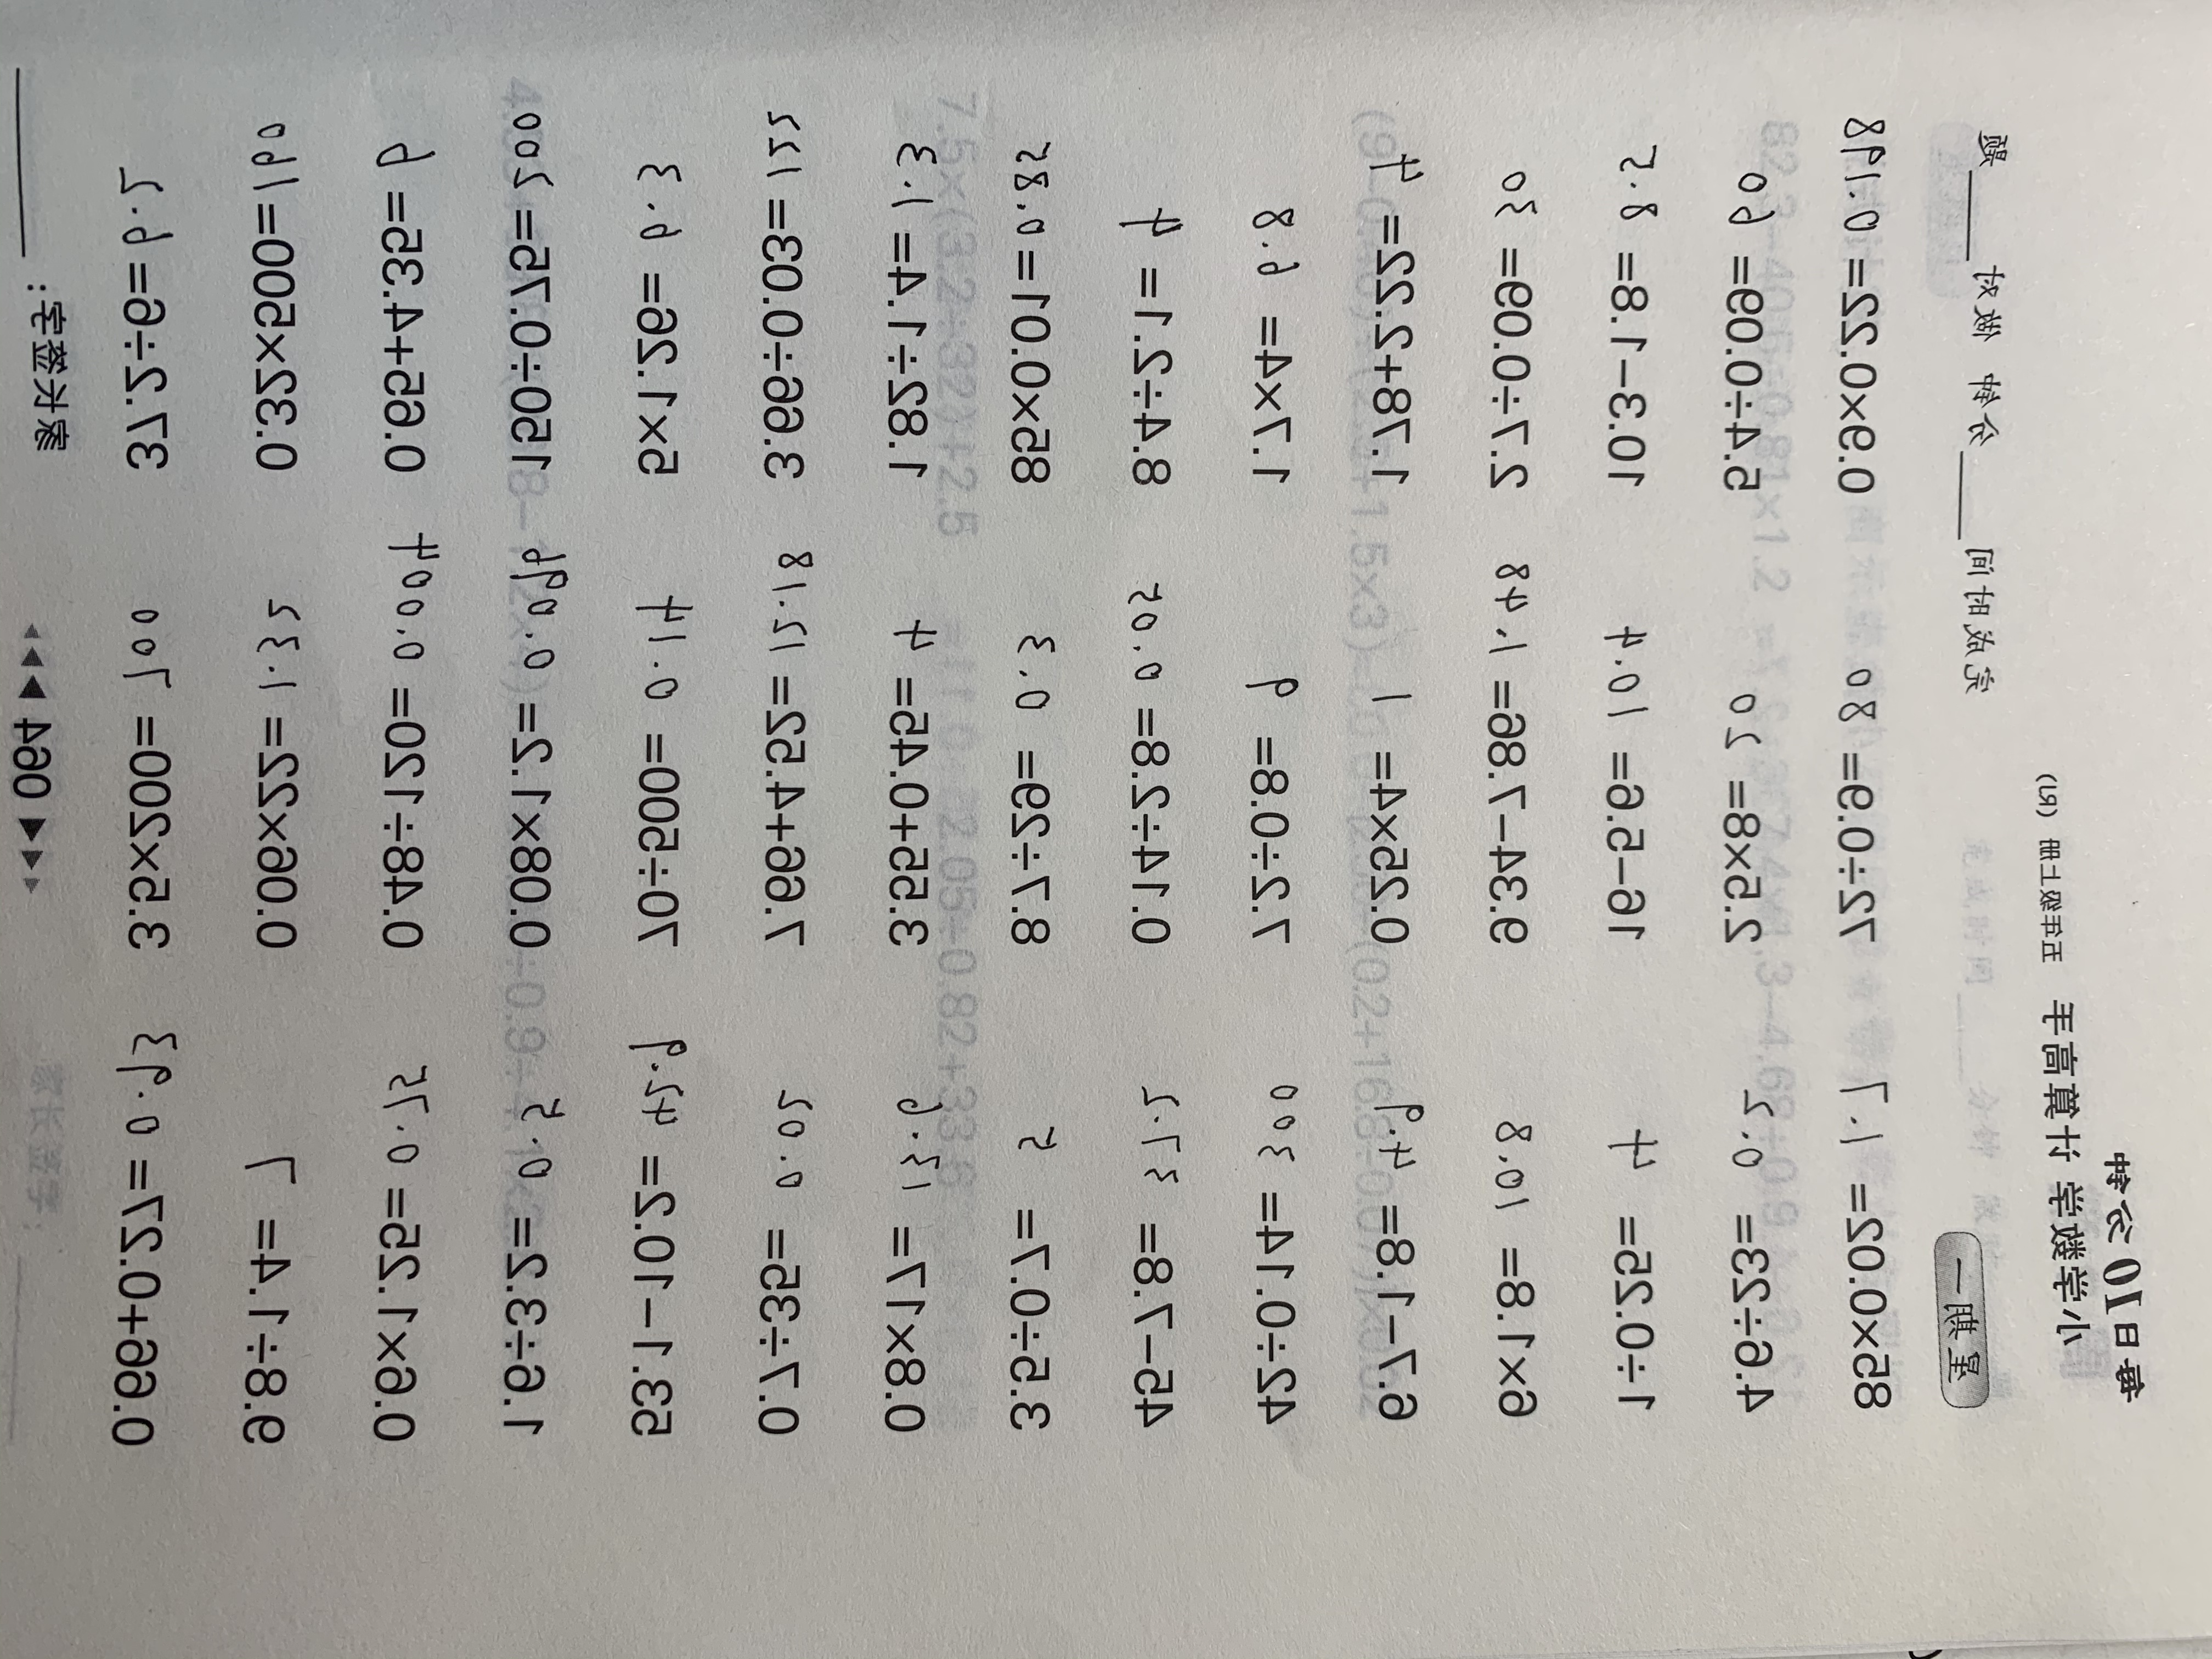equation: (1360, 1525, 1947, 1586), (716, 1225, 1278, 1286), (1371, 1136, 1928, 1197), (1433, 230, 1898, 295), (704, 1324, 1278, 1375), (779, 1133, 1271, 1190), (169, 1324, 657, 1382), (1409, 1331, 1939, 1384), (218, 1520, 637, 1584), (723, 1044, 1275, 1093), (737, 504, 1275, 552), (192, 586, 657, 641), (145, 237, 674, 286), (148, 1429, 641, 1481), (1442, 1046, 1932, 1098), (799, 1520, 1284, 1572), (1449, 1236, 1928, 1288), (261, 765, 660, 828), (1453, 948, 1928, 1000), (132, 1237, 637, 1286), (136, 1047, 653, 1094), (1456, 582, 1905, 636), (786, 1427, 1278, 1476), (815, 950, 1275, 1002), (178, 951, 653, 1002), (766, 772, 1275, 819), (185, 411, 667, 460), (1437, 767, 1918, 816), (202, 1136, 644, 1188), (172, 863, 657, 910), (1430, 678, 1909, 725), (822, 415, 1268, 465), (1529, 1429, 1942, 1483), (218, 324, 671, 373), (1449, 319, 1895, 368), (214, 500, 667, 547), (1489, 859, 1925, 908), (1489, 408, 1895, 460), (833, 861, 1275, 908), (888, 678, 1271, 732), (265, 676, 660, 728), (1482, 498, 1905, 545), (874, 244, 1268, 291), (911, 592, 1275, 640), (907, 329, 1268, 375)
